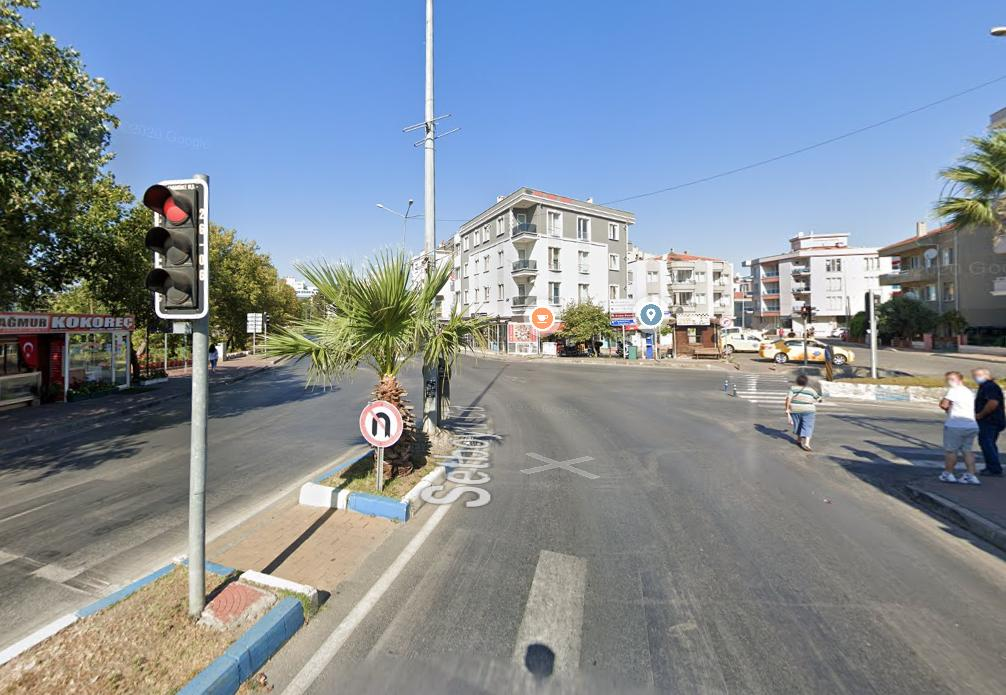redlight: (145, 180, 206, 312)
